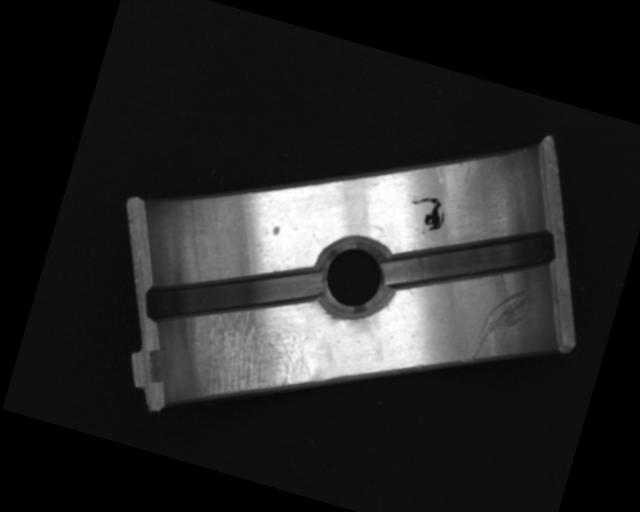blot: (403, 190, 450, 234)
bruise: (270, 223, 282, 237)
gap: (140, 225, 325, 363), (379, 189, 563, 327)
hole: (309, 231, 399, 321)
nick: (469, 279, 535, 373)
scratch: (173, 296, 330, 423)
